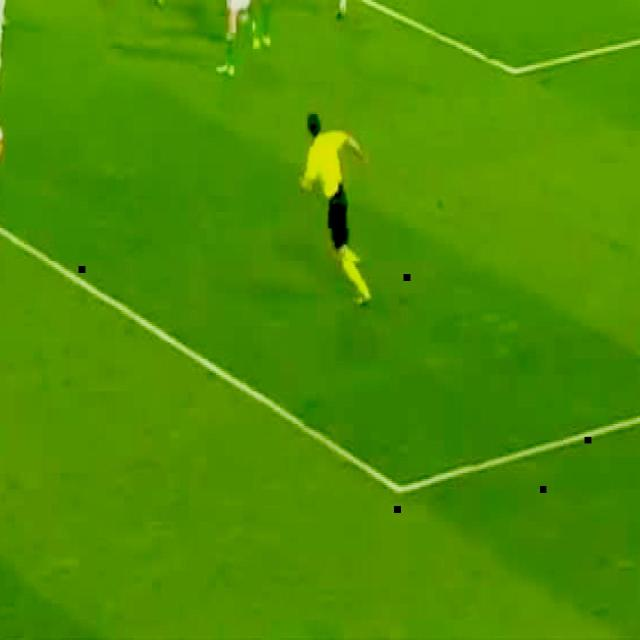player-white: (299, 116, 372, 306), (216, 0, 254, 82), (246, 0, 276, 47), (326, 0, 360, 20), (0, 0, 4, 161)
